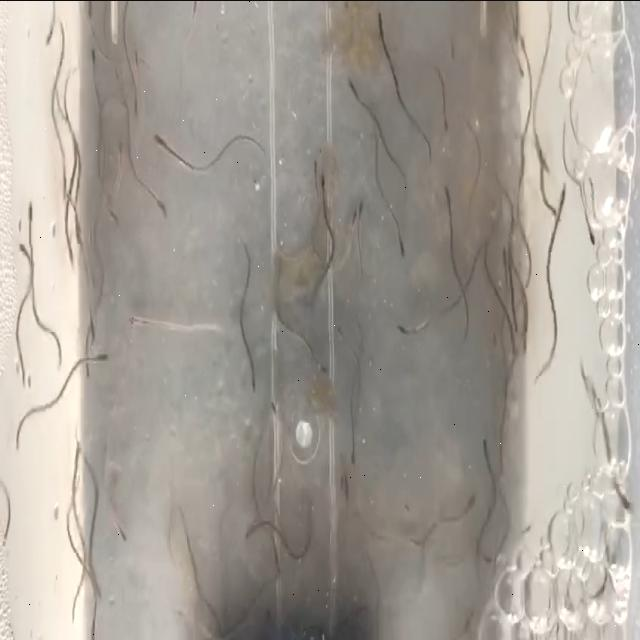active_glass_eel: (153, 179, 170, 235), (122, 290, 141, 336), (24, 197, 44, 239), (87, 574, 113, 602), (394, 317, 412, 353), (240, 512, 256, 548), (97, 345, 115, 375), (438, 183, 453, 219), (476, 427, 492, 457), (620, 486, 636, 516), (154, 128, 172, 154), (120, 522, 134, 554), (318, 164, 331, 197), (250, 376, 264, 406), (74, 430, 84, 470), (334, 316, 348, 344), (373, 12, 389, 36), (440, 112, 452, 144), (518, 31, 532, 57), (316, 351, 327, 383), (558, 176, 574, 198), (541, 158, 554, 184), (398, 239, 412, 262), (110, 209, 124, 231), (130, 98, 144, 120), (15, 236, 25, 266), (66, 250, 80, 270), (586, 232, 600, 252), (270, 403, 288, 418), (88, 50, 101, 67), (44, 38, 56, 56), (519, 62, 527, 88), (500, 248, 510, 268), (59, 178, 71, 192), (467, 491, 477, 507)
